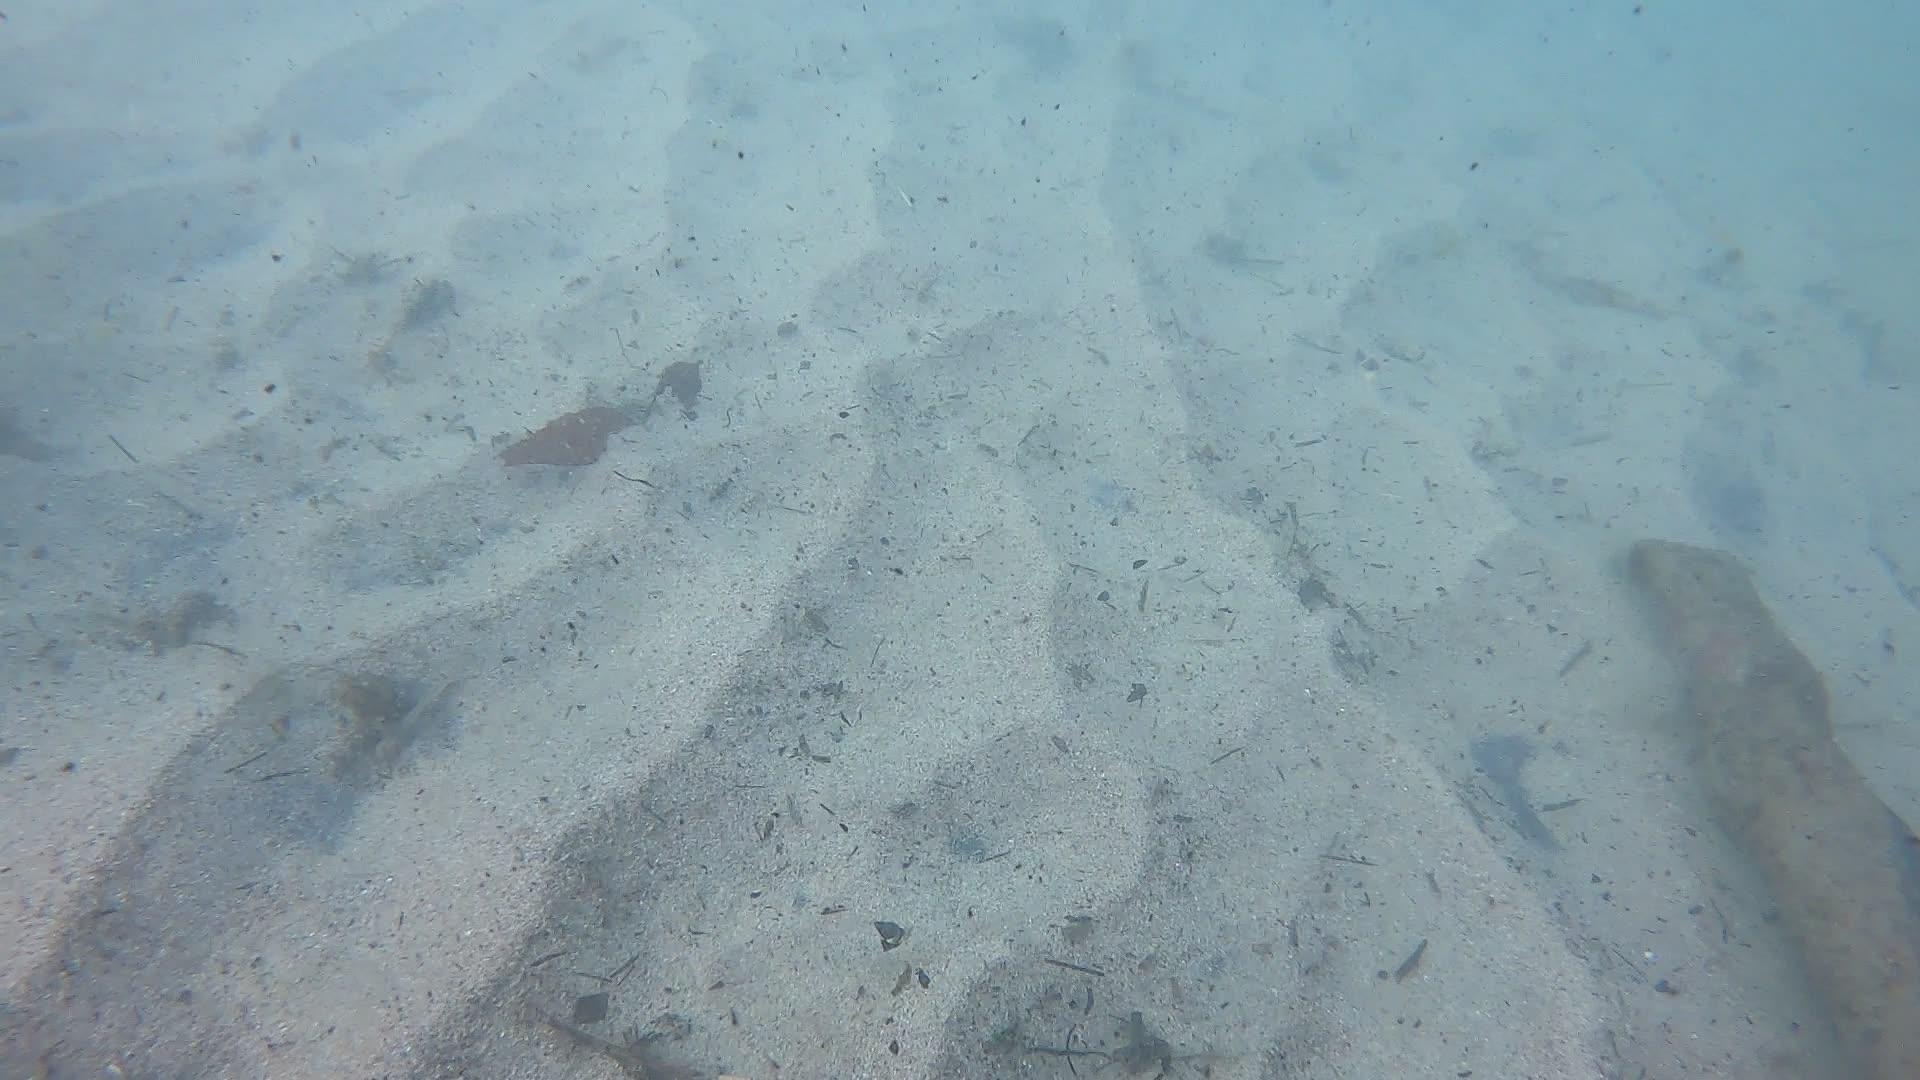wood: (1618, 535, 1920, 1080)
